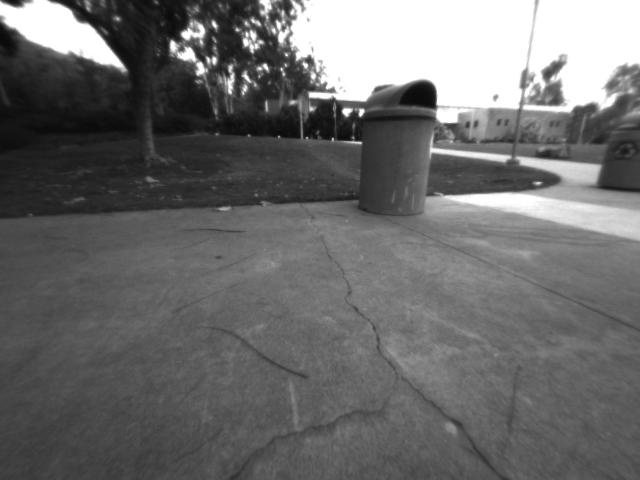trashcan: (357, 78, 436, 219)
